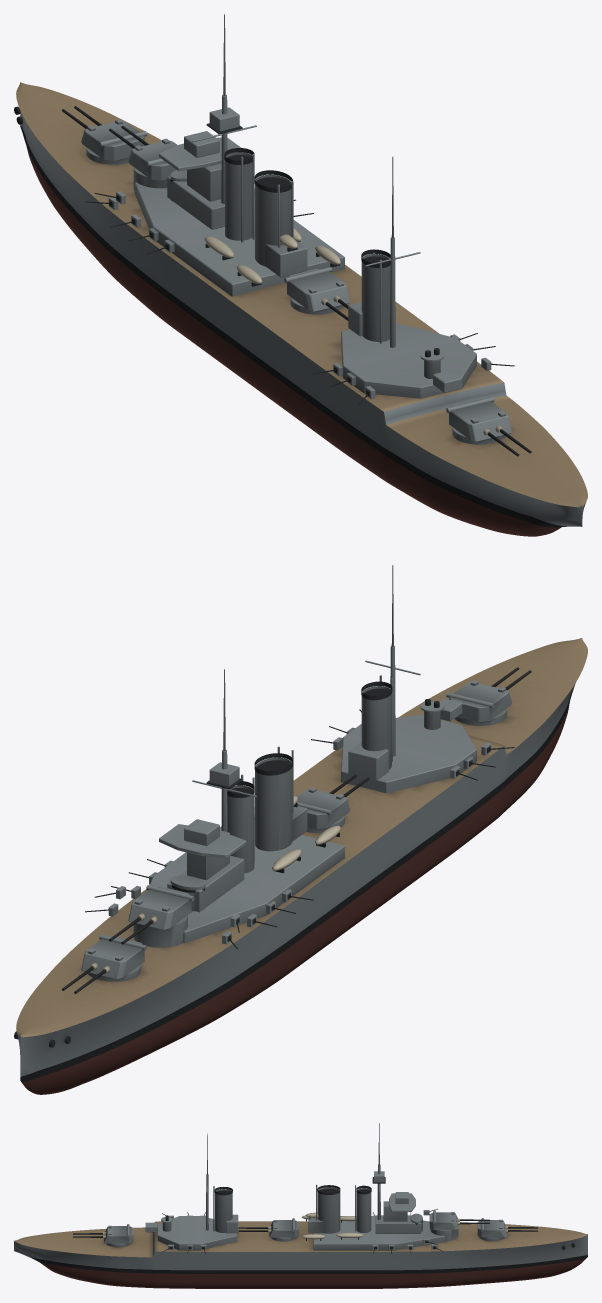
Rendered from hms-lion.glb.
3 renders of one model, top to bottom at view 1: azimuth 30°, elevation 25°; view 2: azimuth 150°, elevation 25°; view 3: azimuth 270°, elevation 25°, orthographic. The views are drawn at different scales.
Visible parts, largest first — view 1: hms-lion; view 2: hms-lion; view 3: hms-lion.
Boxes of the visible parts, x1,y1,x2,y2 form: hms-lion: (14, 14, 587, 536); hms-lion: (14, 565, 587, 1094); hms-lion: (14, 1123, 587, 1288).
Size of the model in its own units: 36.61 by 63.4 by 213.
